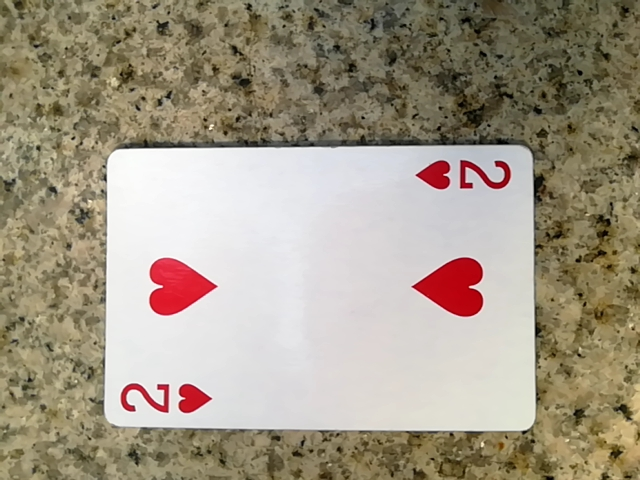hx 2: (99, 143, 530, 440)
